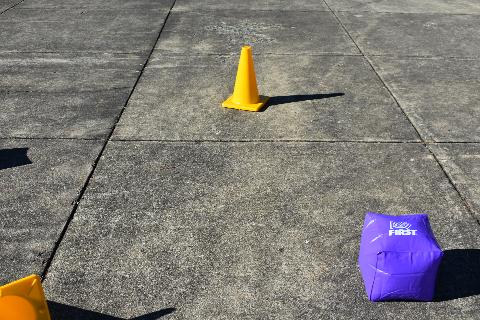cone: (222, 46, 272, 112), (0, 274, 50, 320)
cube: (359, 212, 446, 302)
